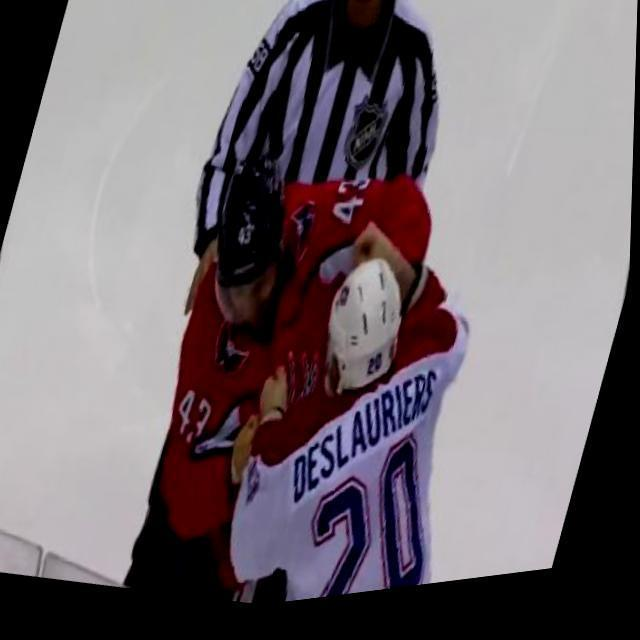fight: (91, 90, 554, 630)
